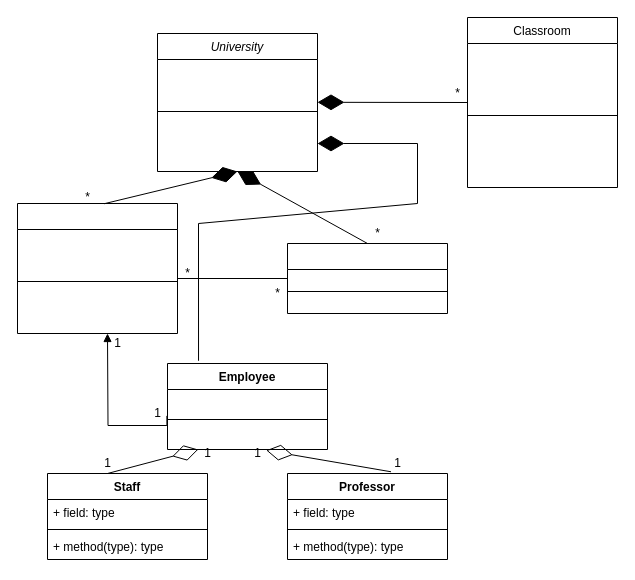
Some shapes in this 635 by 580 pixel diagram are drawn without their labels. Each missing label, with the centre of its shape:
"Department" belongs at pixel 367 278.
"Office" belongs at pixel 97 268.
